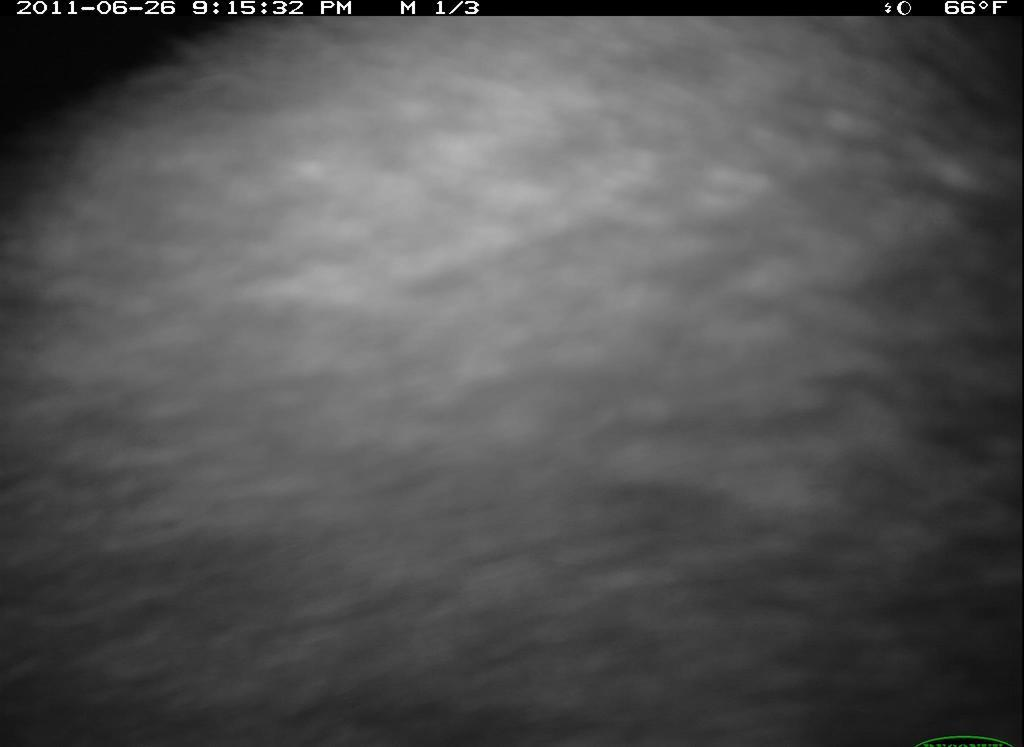raccoon: (8, 17, 1023, 747)
